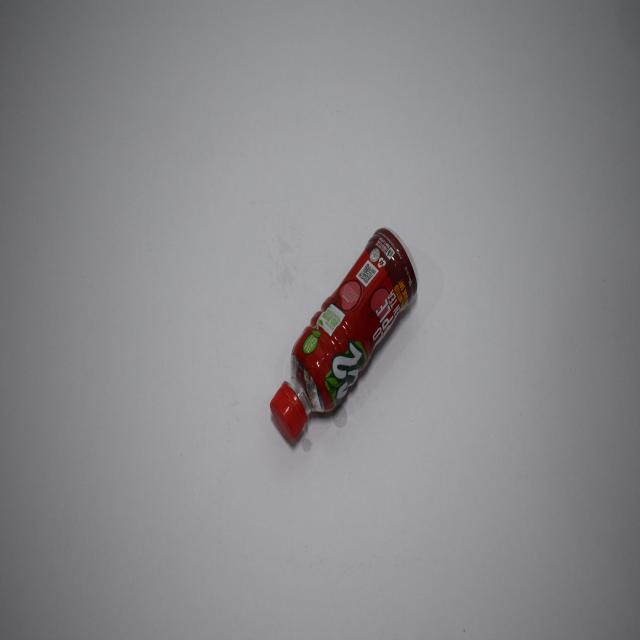bottle: (264, 222, 431, 456)
